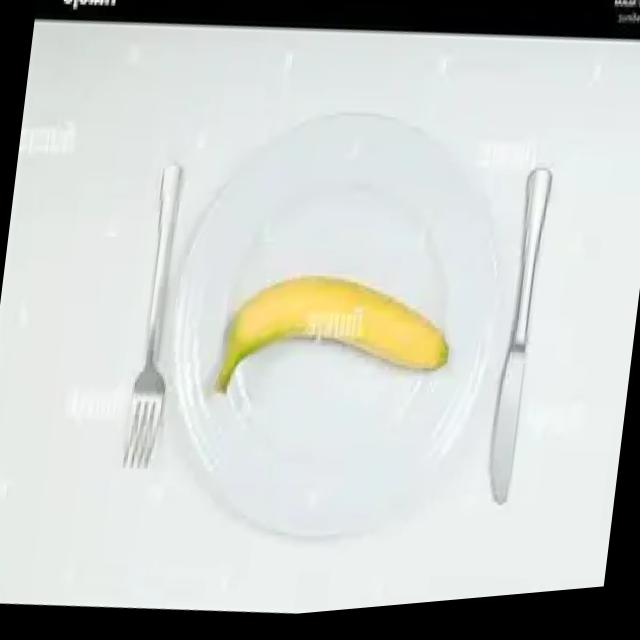BANANA: (210, 275, 450, 392)
